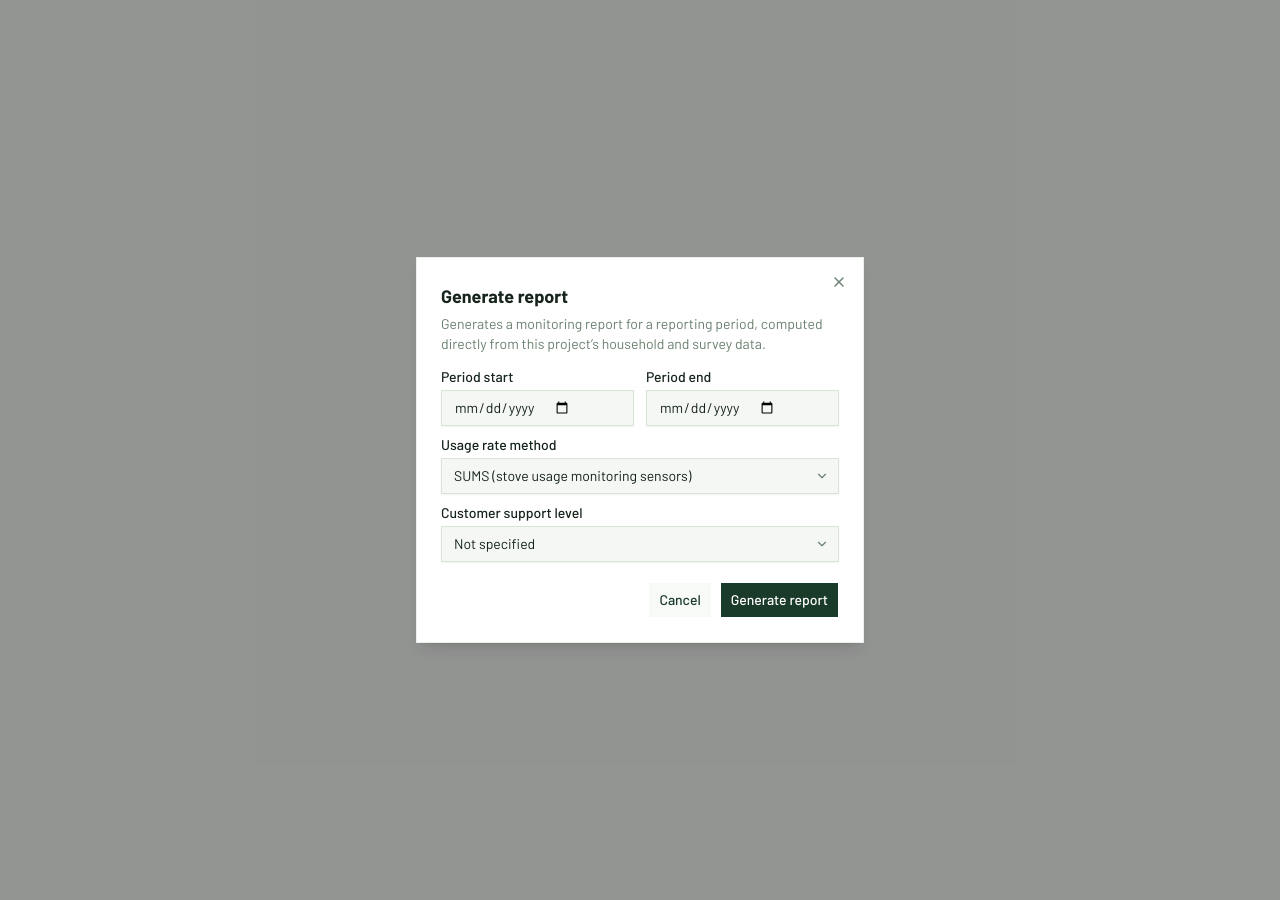
Test: GenerateReportDialog › requires customer support level for survey-based usage rate
Type "2026-01-01" into the date field labelled "Period start" at coordinates (538, 408), box [441,390,634,426]
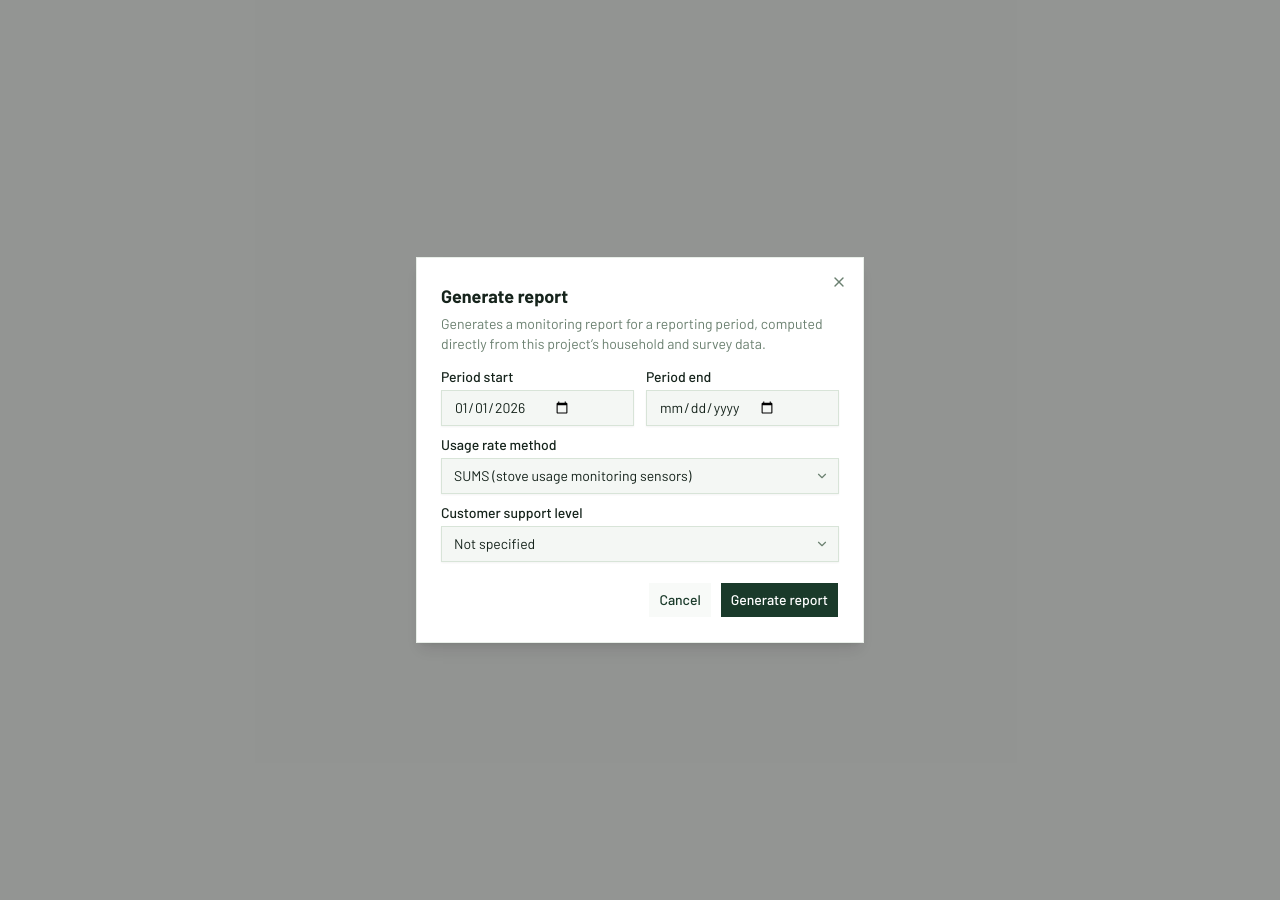
Type "2026-06-30" into the date field labelled "Period end" at coordinates (742, 408), box [646,390,839,426]
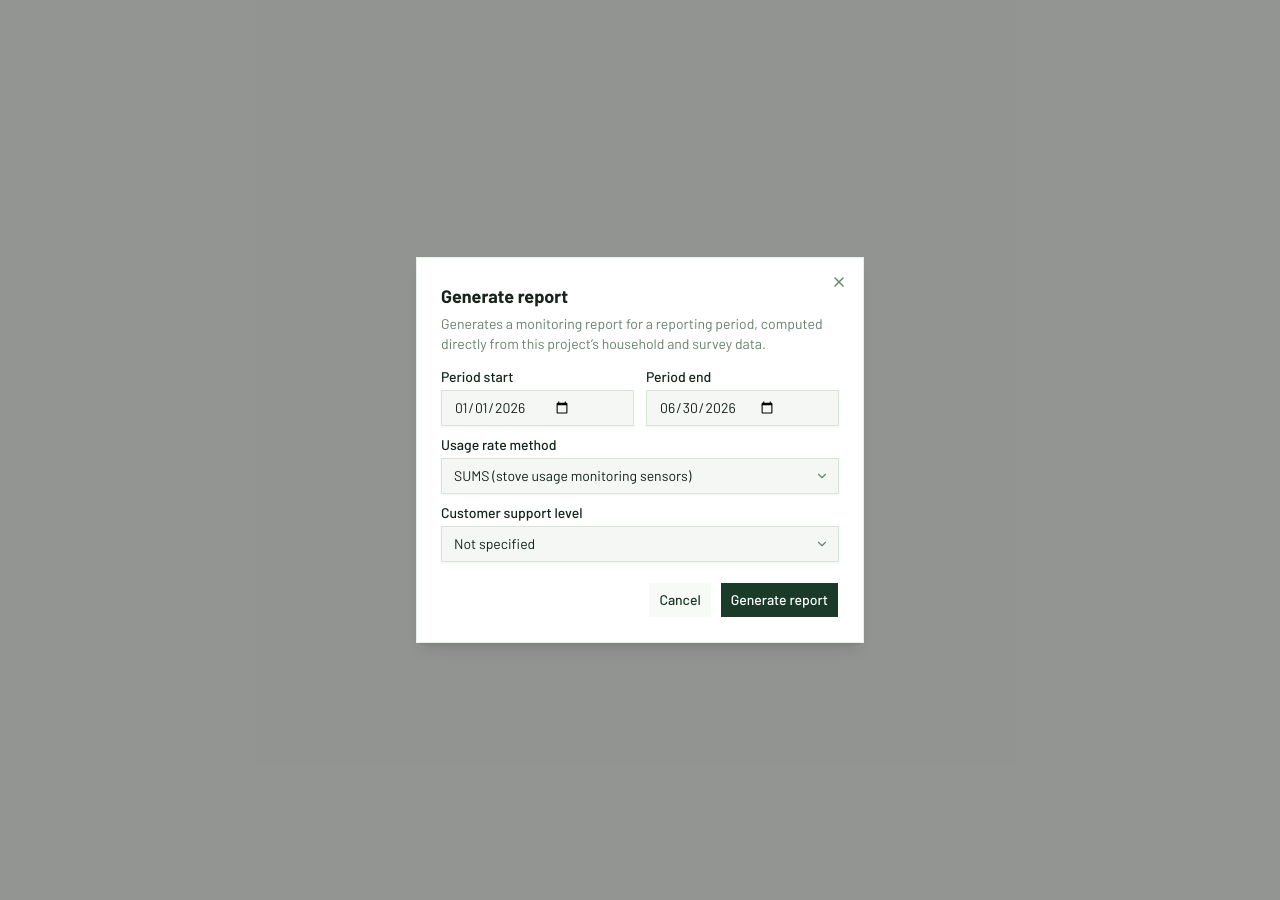
Select "Surveys" in the dropdown labelled "Usage rate method" at coordinates (640, 476), box [441,458,839,494]
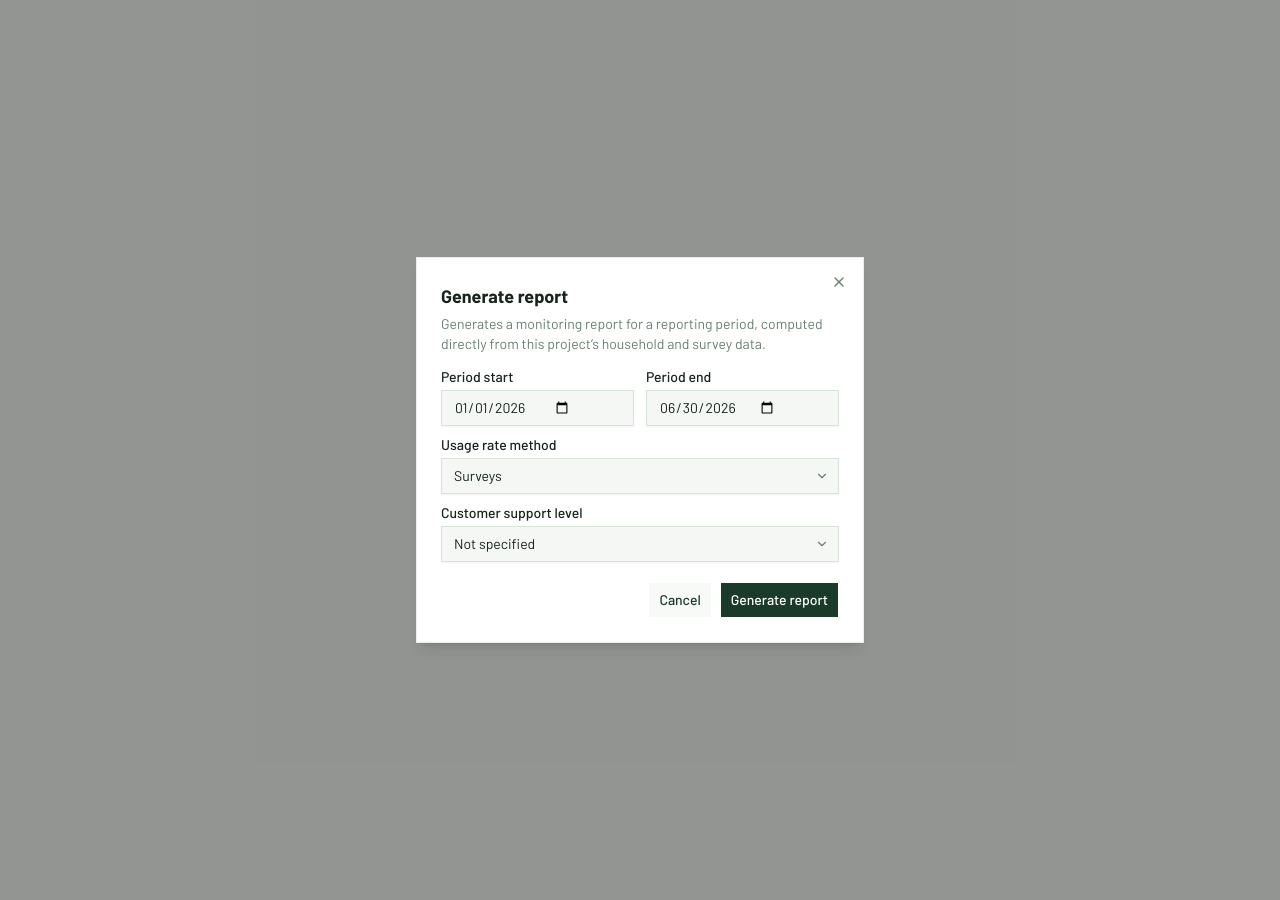
Click the button "Generate report" at coordinates (779, 600), box [720,582,839,618]
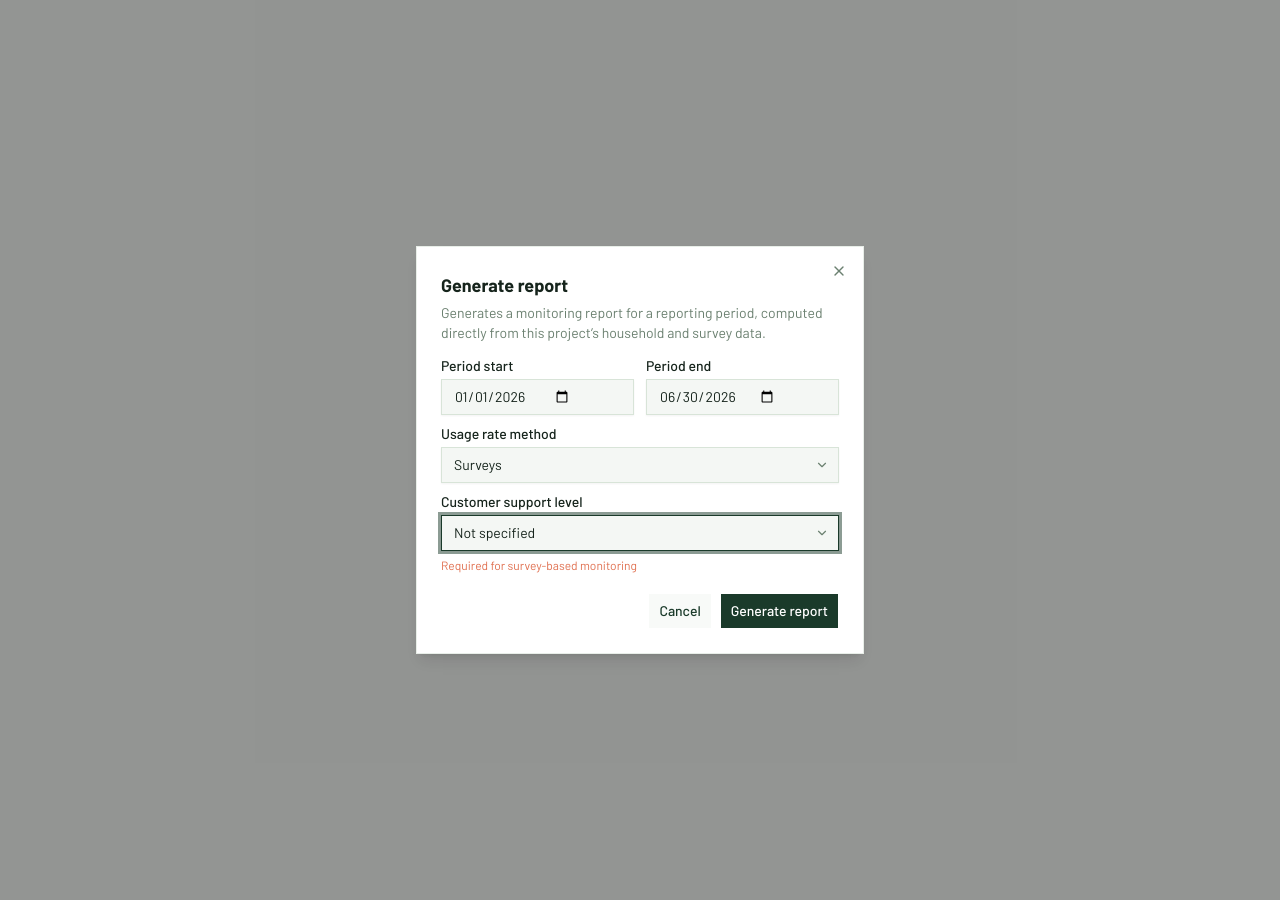
Expected: the text "Required for survey-based monitoring" is shown, [441,558,637,572]
